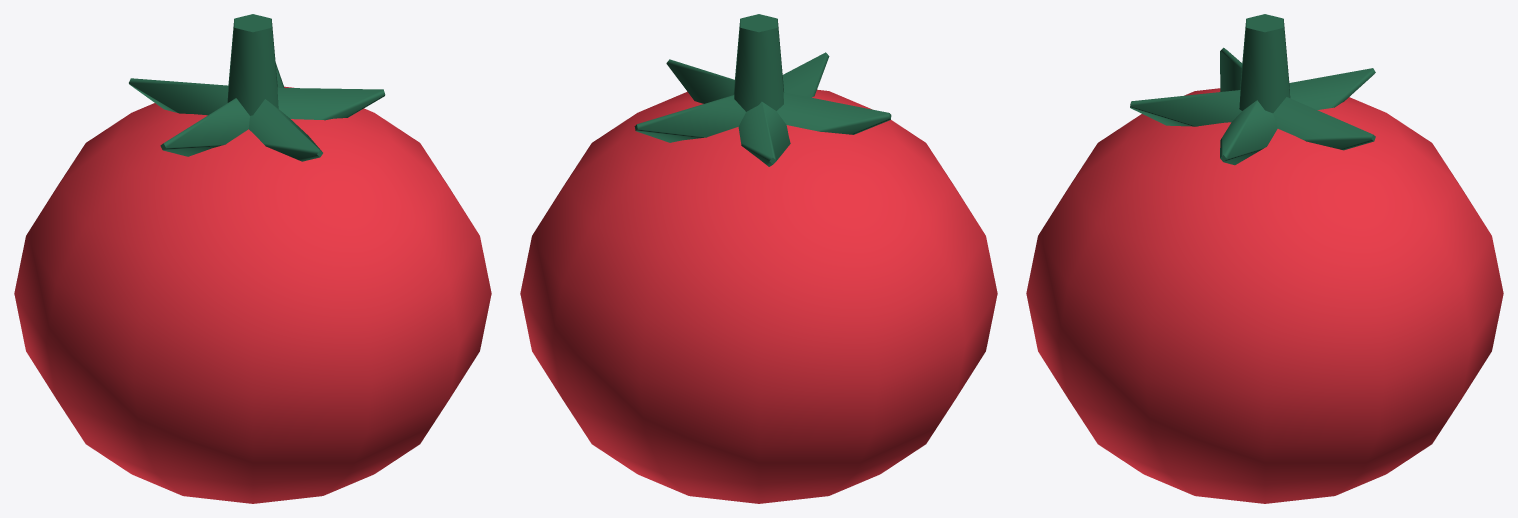
File: food_domates.glb
3 renders of one model, left to right at view 1: azimuth 30°, elevation 25°; view 2: azimuth 150°, elevation 25°; view 3: azimuth 270°, elevation 25°, orthographic.
Visible parts, largest first — view 1: FoodNode_domates; view 2: FoodNode_domates; view 3: FoodNode_domates.
Part boxes in pixels (left/top/right/bottom): FoodNode_domates: left=14, top=14, right=491, bottom=503; FoodNode_domates: left=520, top=14, right=997, bottom=503; FoodNode_domates: left=1026, top=14, right=1503, bottom=503.
Size of the model in its own units: 0.253 by 0.2674 by 0.253.
